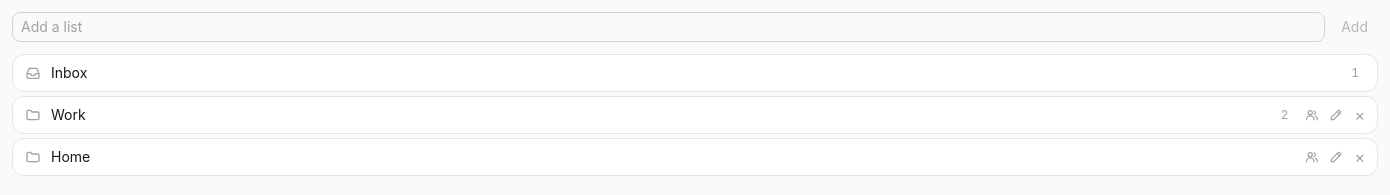
Test case: renaming a list › leaves the list named as it was on Escape (LST-7)
Click the button named "Rename the list \"Work\"" at (1336, 115), box [1324,103,1348,127]
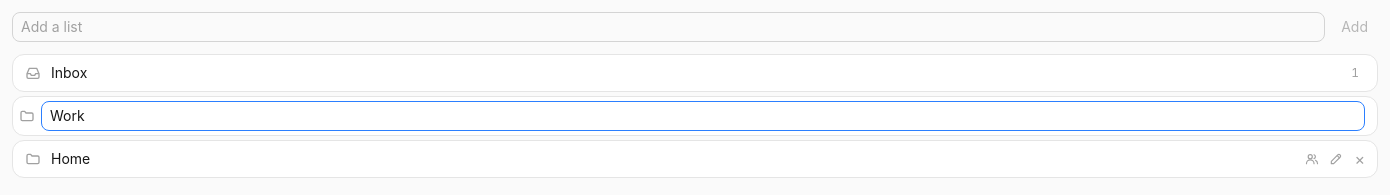
Type keys "{Control>}a{/Control}Day job{Escape}"
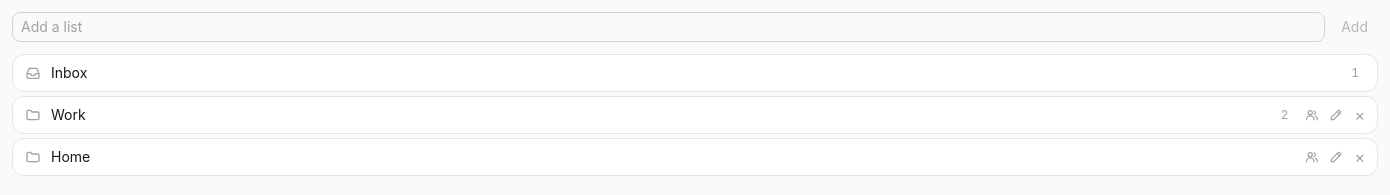
Expected: the button with aria-label "Work: 2 to do" is shown, [13,97,1300,133]
